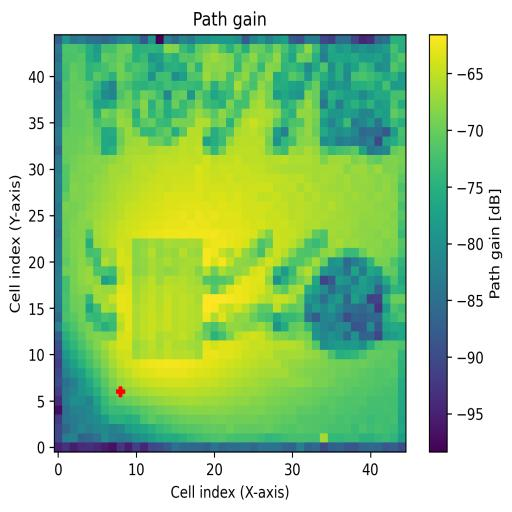Concrete: (319, 44, 391, 156)
Glass: (118, 45, 203, 147)
Metal: (305, 248, 383, 360)
Wood: (131, 238, 203, 360)
